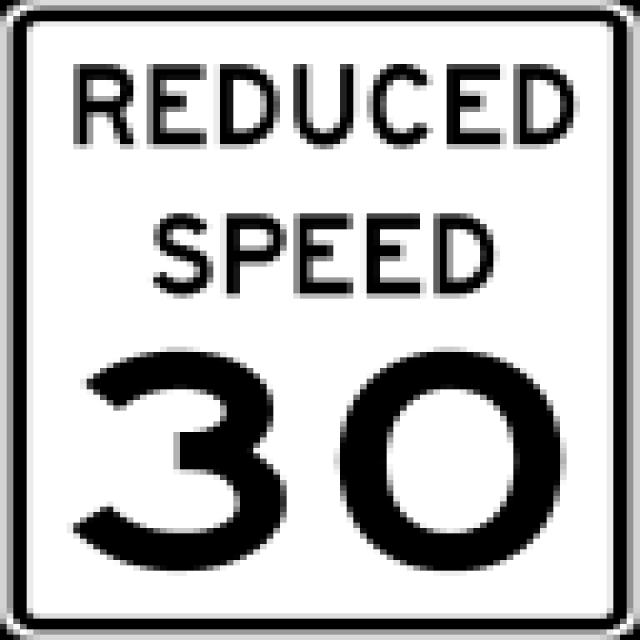Speed Limit -30-: (70, 347, 570, 576)
